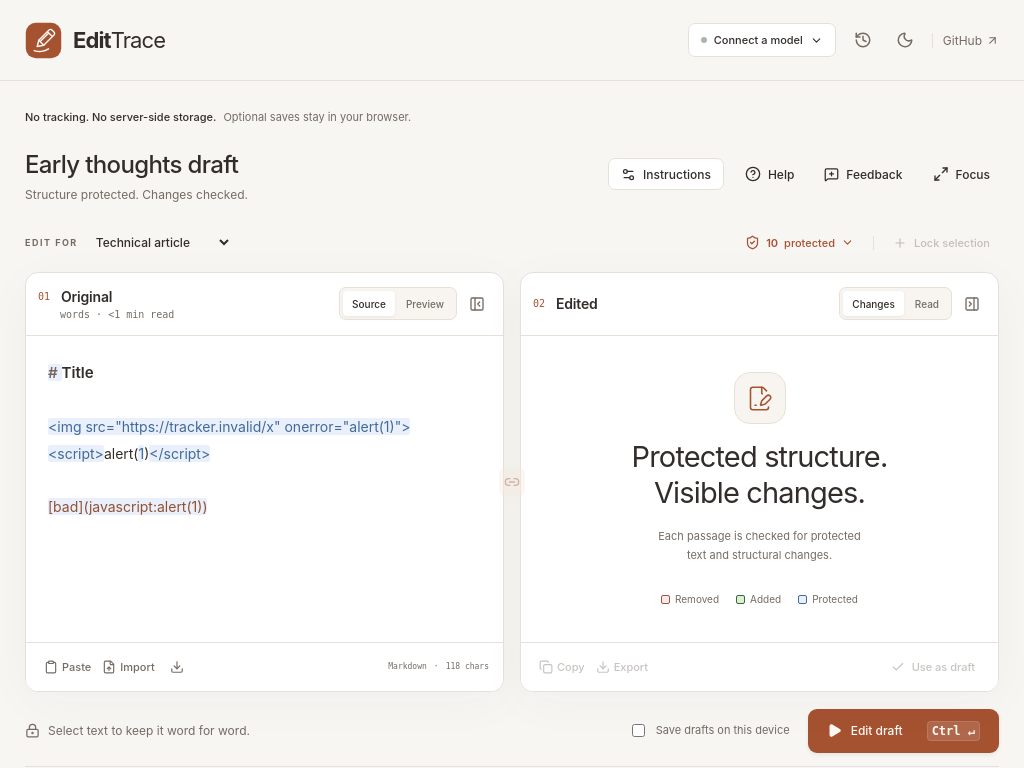
editing workspace › sanitizes preview HTML and blocks remote images
Click the button "Preview". click: point(425, 304)
box: [397,291,453,316]
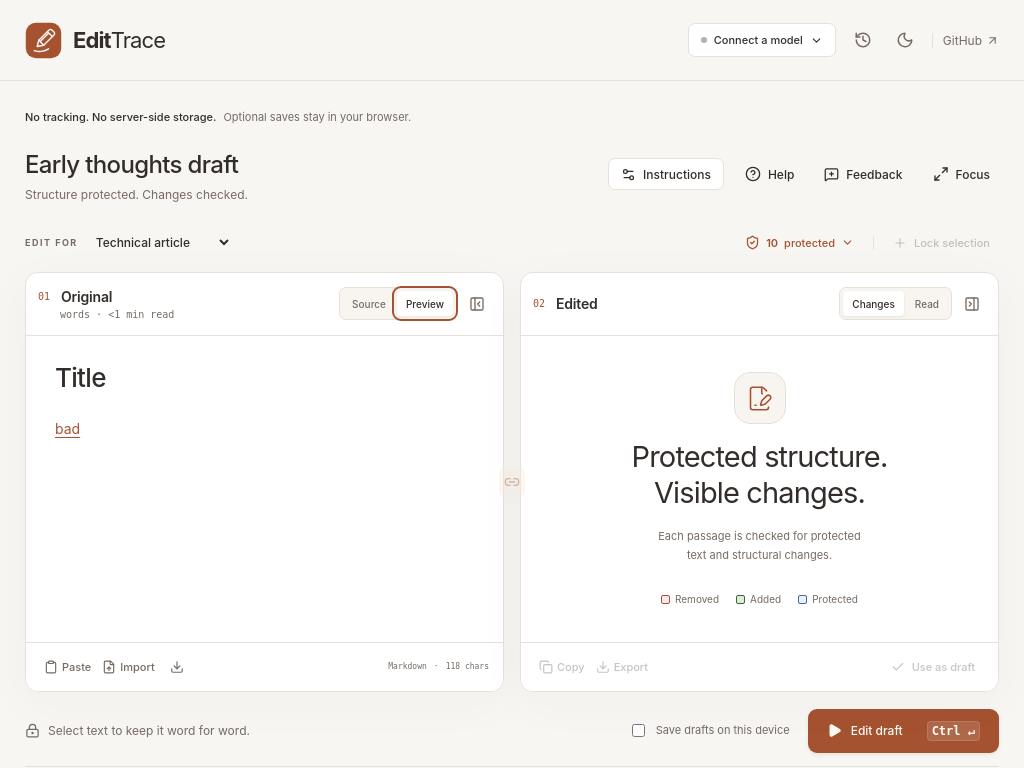
Now the element named "Markdown preview" shows "Title", box [55,362,106,393]
